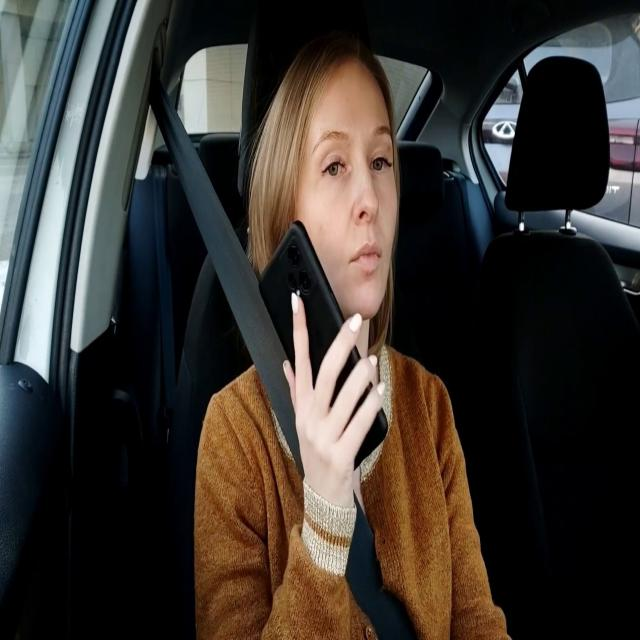phone: (256, 216, 389, 474)
